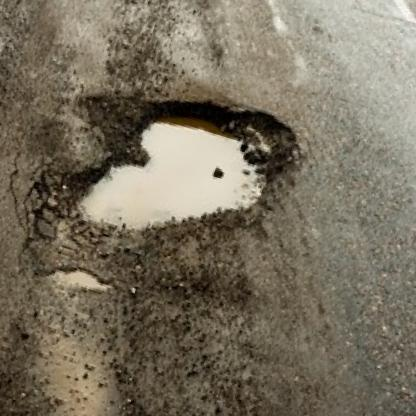pothole: (46, 60, 311, 287)
